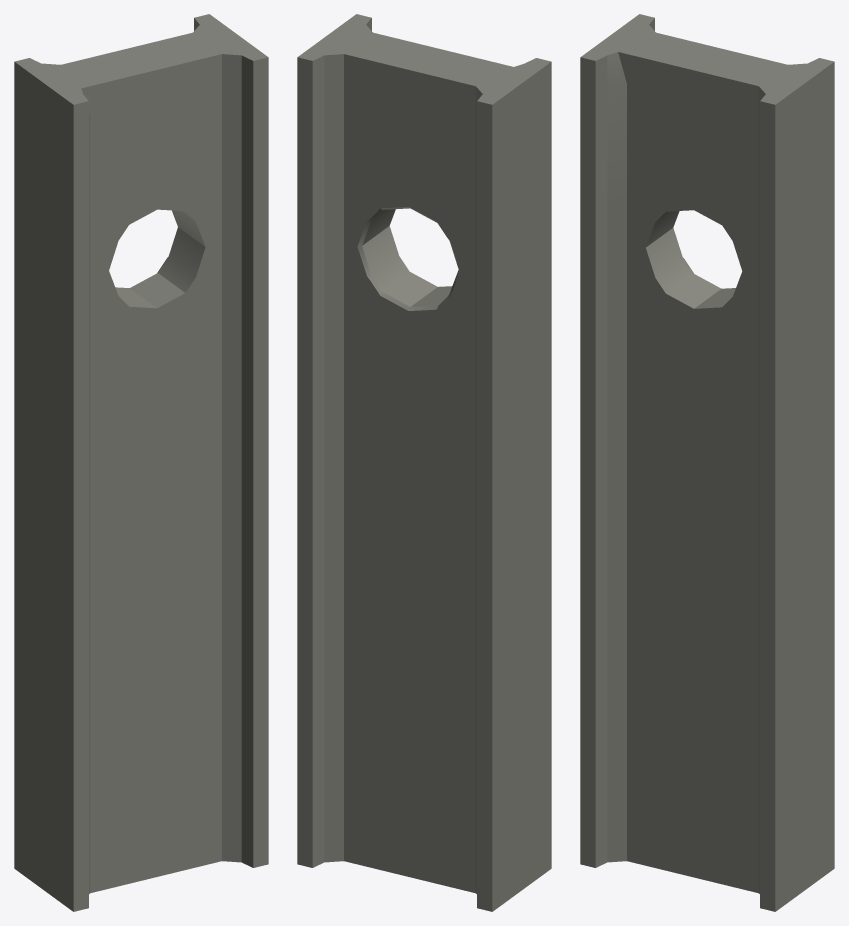
The model's file is metal_rod_short_03.fbx.
3 views of the same model, side by side, from view 1: azimuth 30°, elevation 25°; view 2: azimuth 150°, elevation 25°; view 3: azimuth 330°, elevation 25° (orthographic).
Visible parts, largest first — view 1: metal_rod_short_03; view 2: metal_rod_short_03; view 3: metal_rod_short_03.
Boxes of the visible parts, x1=… form: metal_rod_short_03: x1=14, y1=14, x2=268, y2=911; metal_rod_short_03: x1=297, y1=14, x2=551, y2=911; metal_rod_short_03: x1=580, y1=14, x2=834, y2=911.
Bounding box in the file's own units: 21.05 × 83.21 × 11.05.
